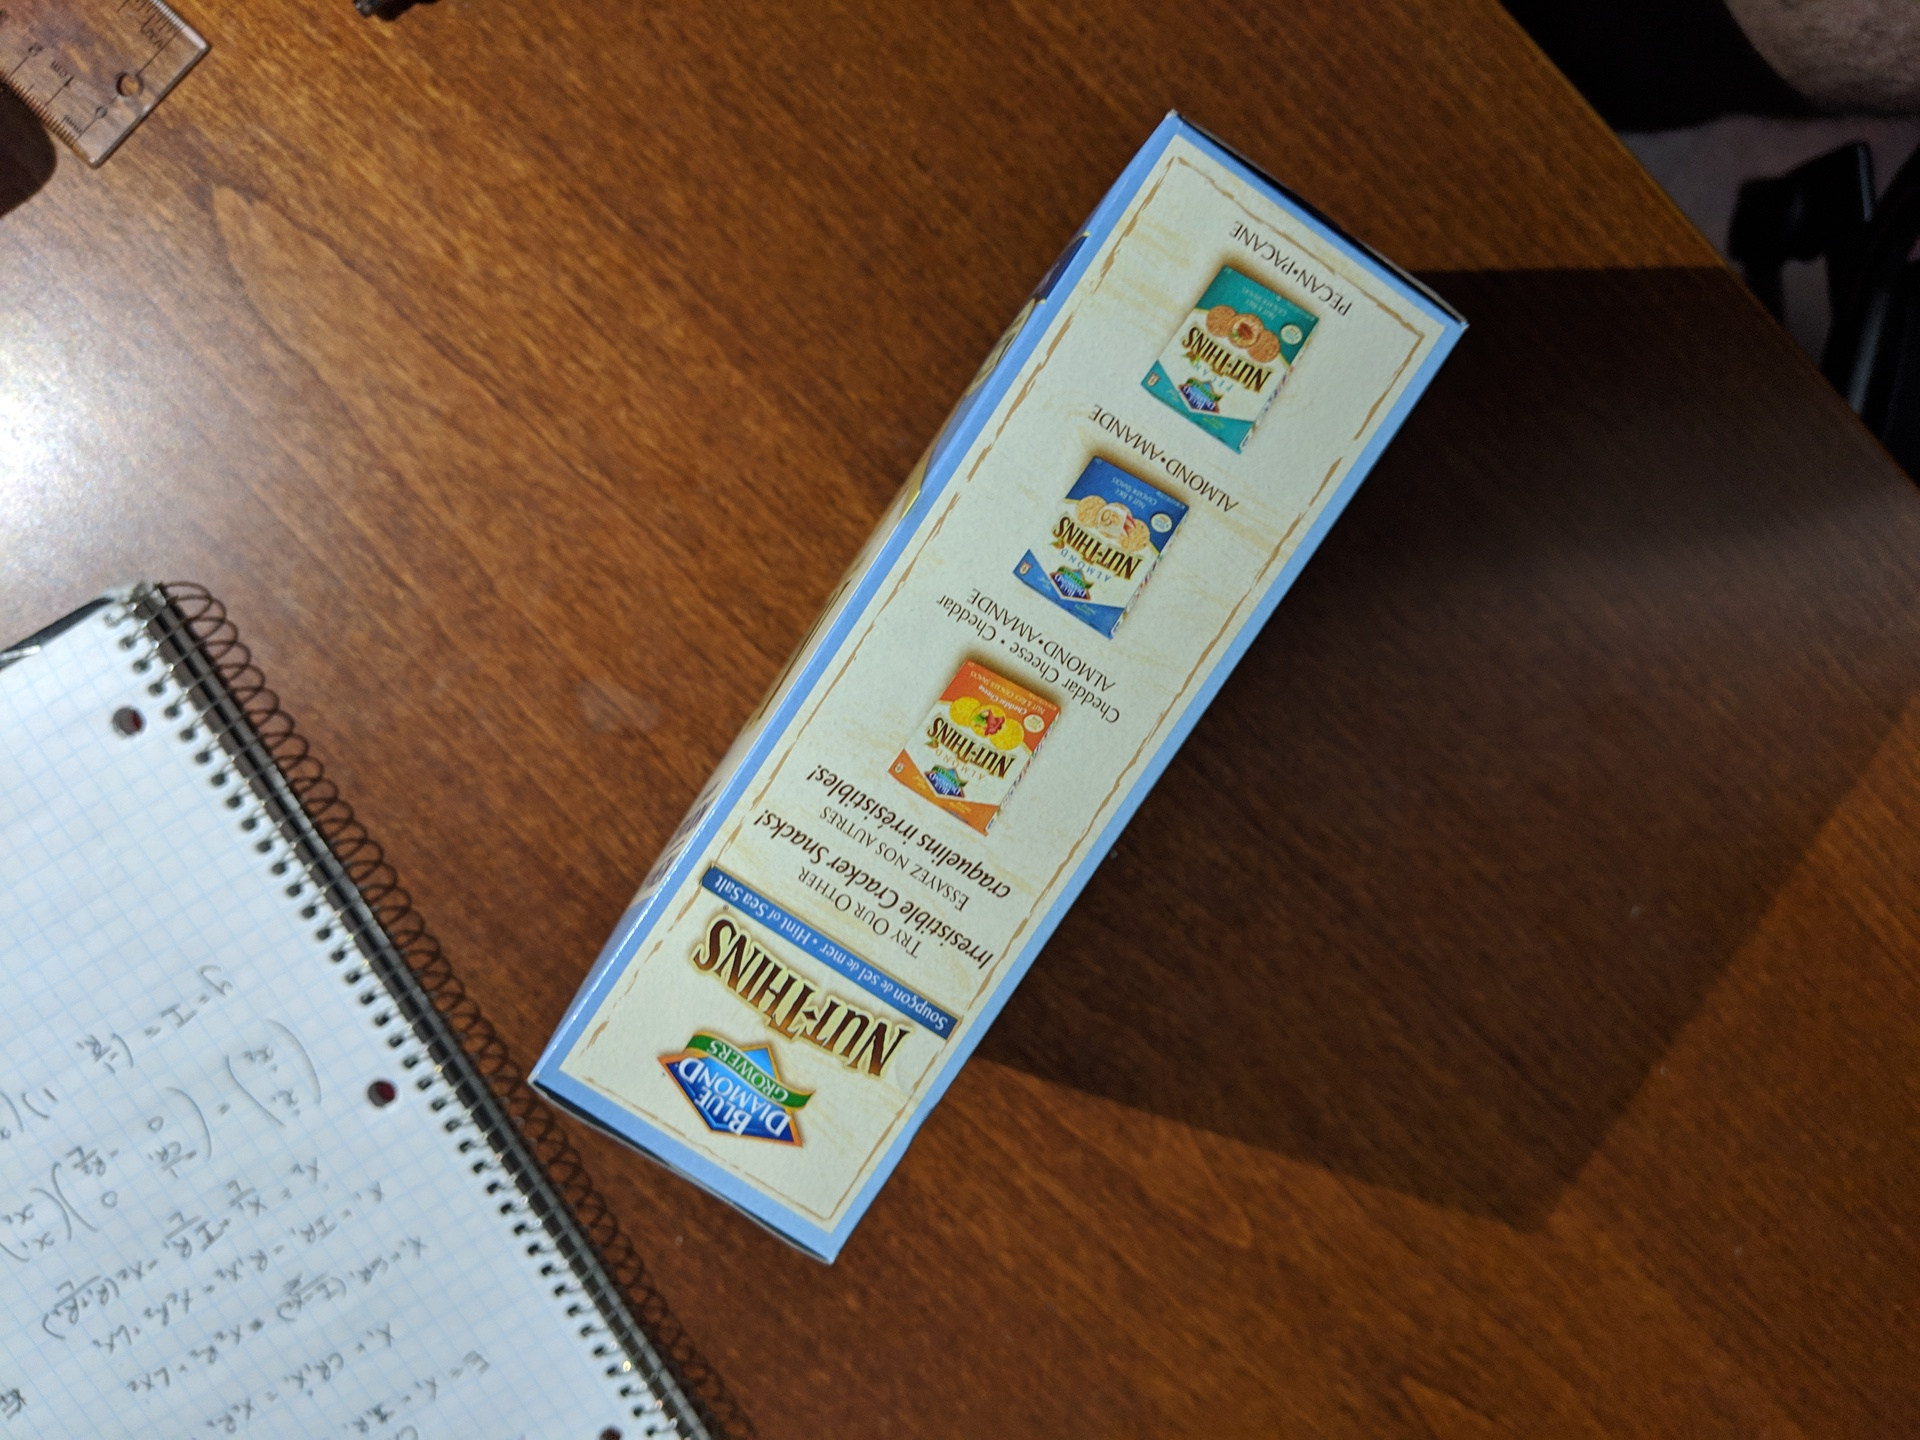blue_diamond_nut_thins_almond_seasalt: (650, 206, 1332, 1178)
